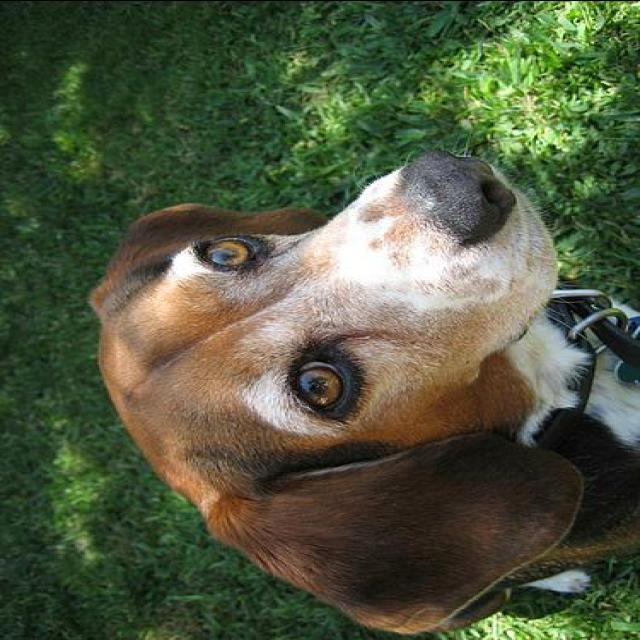beagle: (85, 148, 637, 636)
